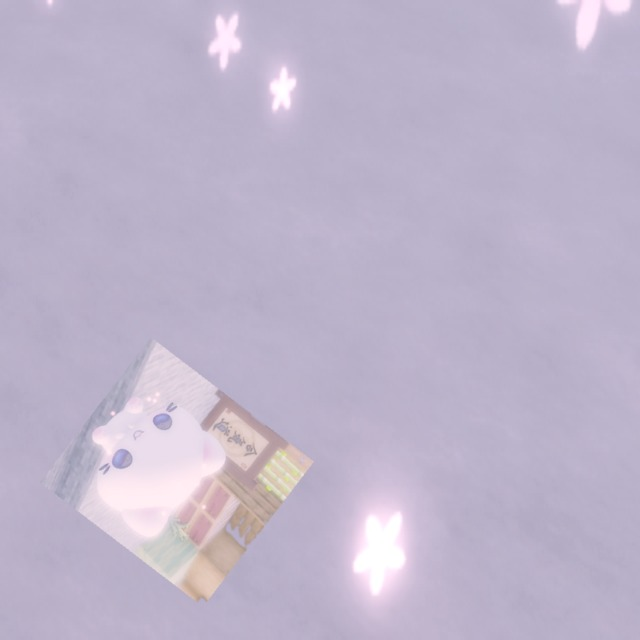urso_branco: (40, 337, 314, 607)
